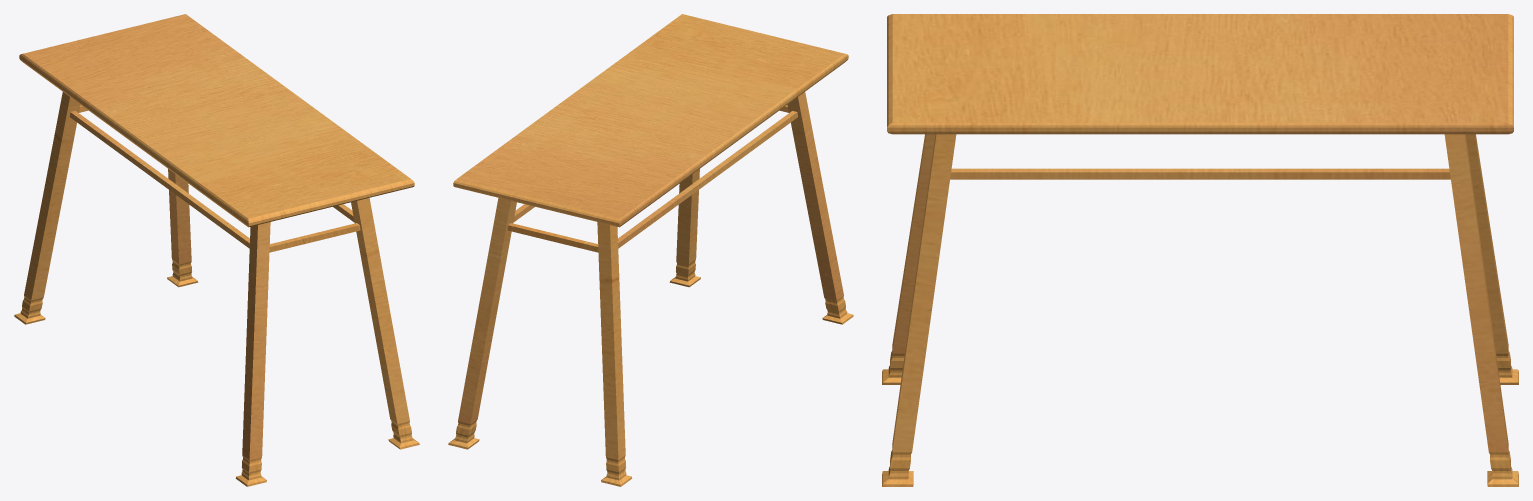
File: table2.fbx
3 views of the same model, side by side, from view 1: azimuth 30°, elevation 25°; view 2: azimuth 150°, elevation 25°; view 3: azimuth 270°, elevation 25° (orthographic). The views are drawn at different scales.
Visible parts, largest first — view 1: table2; view 2: table2; view 3: table2.
Part boxes in pixels (x1,y1,x2,y2): table2: (14, 14, 419, 486); table2: (448, 14, 853, 486); table2: (882, 14, 1518, 486).
Bounding box in the file's own units: 0.6797 × 1.59 × 0.9939.
